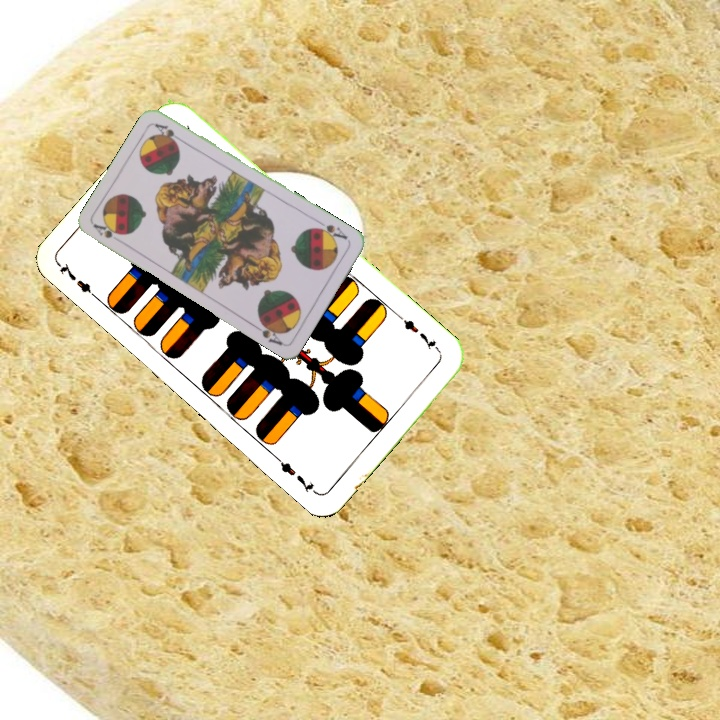E7: (55, 259, 103, 304), (395, 312, 443, 356)
SA: (311, 217, 350, 244), (90, 219, 125, 241)
